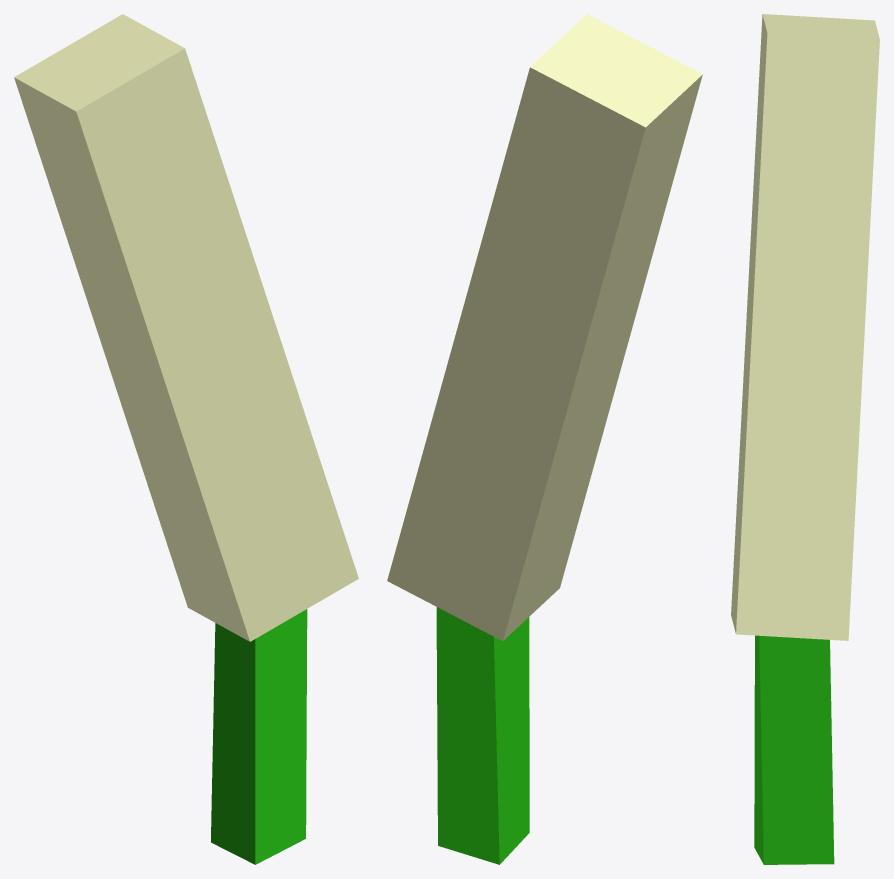
Rendered from cottontail_1.fbx.
The picture shows the model from 3 angles, left to right: view 1: azimuth 30°, elevation 25°; view 2: azimuth 150°, elevation 25°; view 3: azimuth 270°, elevation 25°; orthographic projection. The views are drawn at different scales.
Visible parts, largest first — view 1: Cube.076; view 2: Cube.076; view 3: Cube.076.
Boxes of the visible parts, x1,y1,x2,y2 form: Cube.076: (14,14,358,864); Cube.076: (387,14,702,864); Cube.076: (731,14,879,864).
Bounding box in the file's own units: 53.04 × 155 × 26.52.
1 material, 1 textured.
